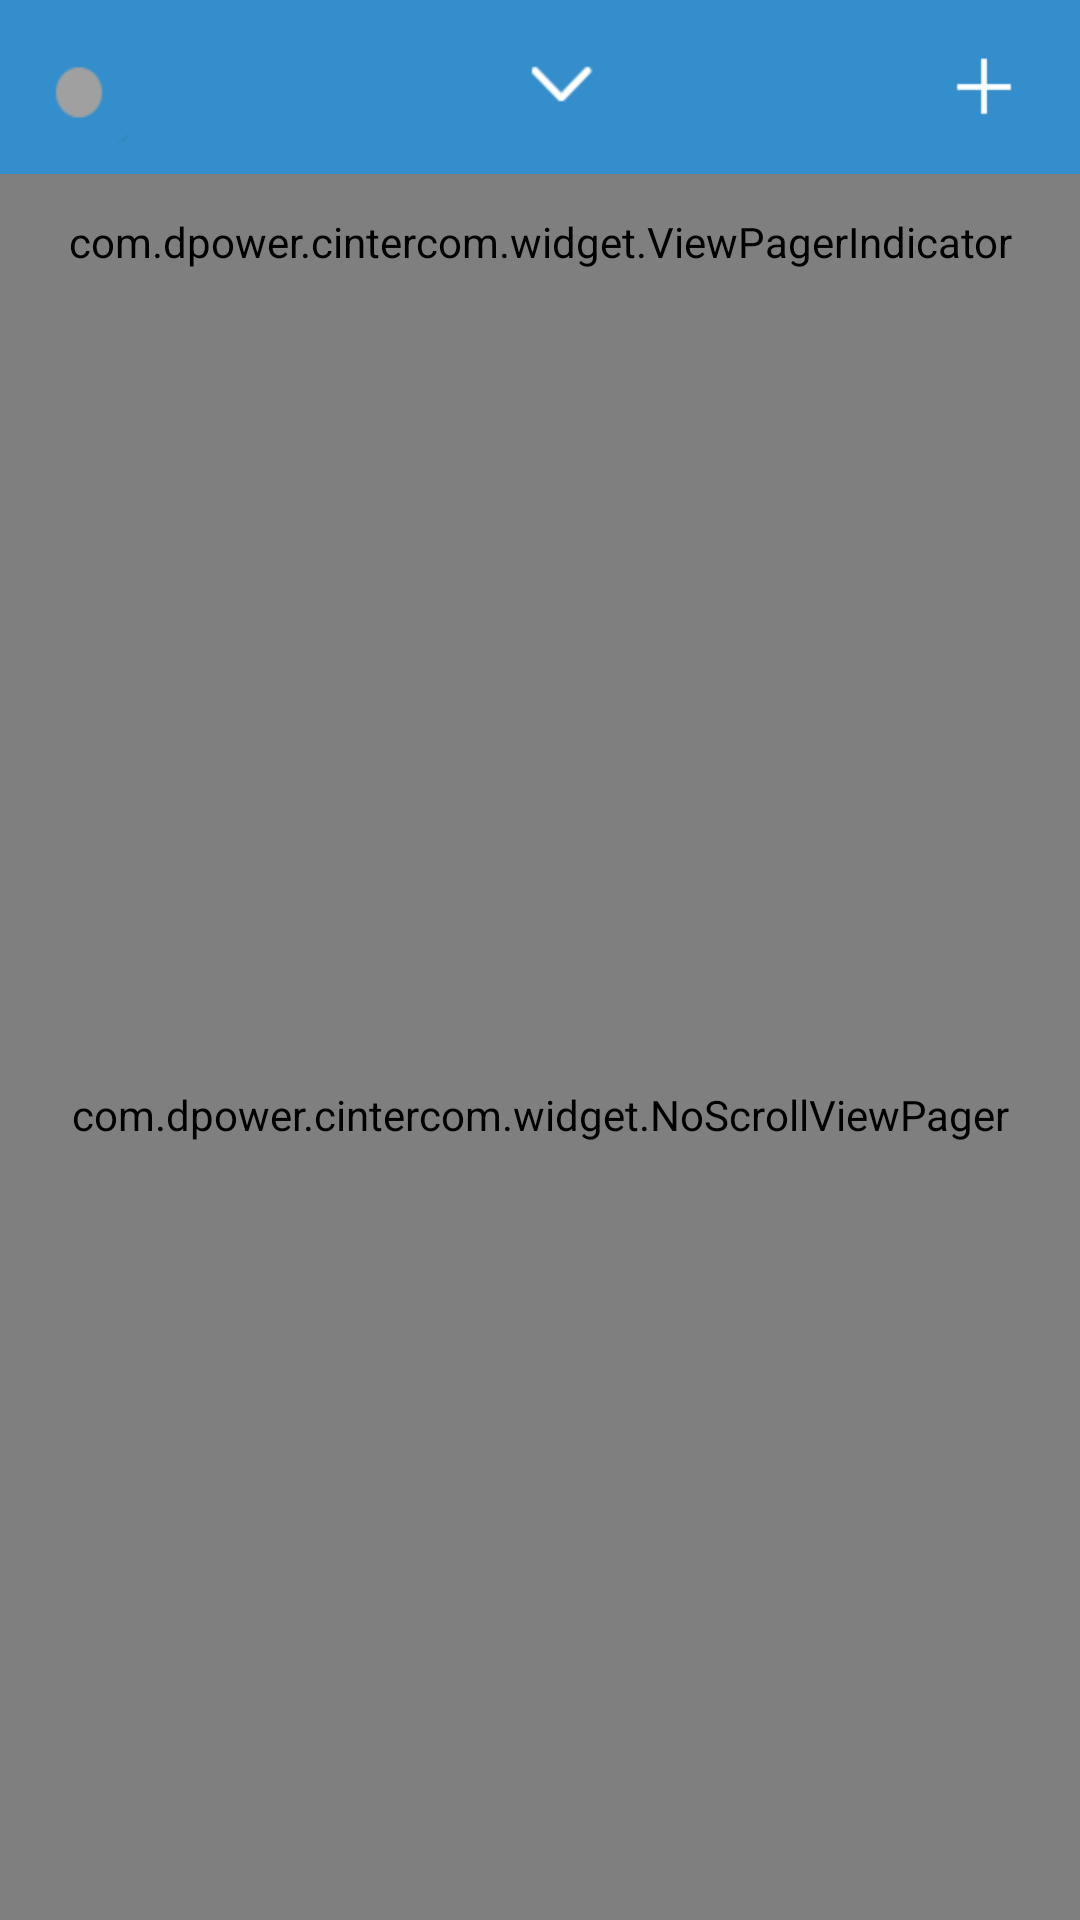

Named icons in this screenshot (1080 × 1920) and their bounding boxes, (x1, y1, x2, y2):
add: (956, 58, 1012, 115)
